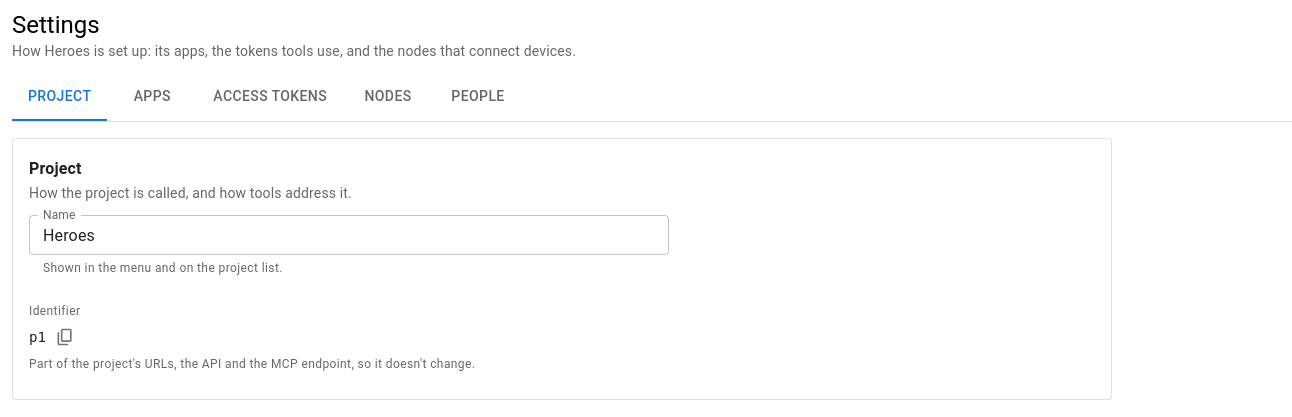
Test: SettingsPage tabs: loads the Nodes tab when it is picked
This screenshot has width=1292, height=417.
Click the tab "Nodes" at (388, 97), box [343,73,433,121]
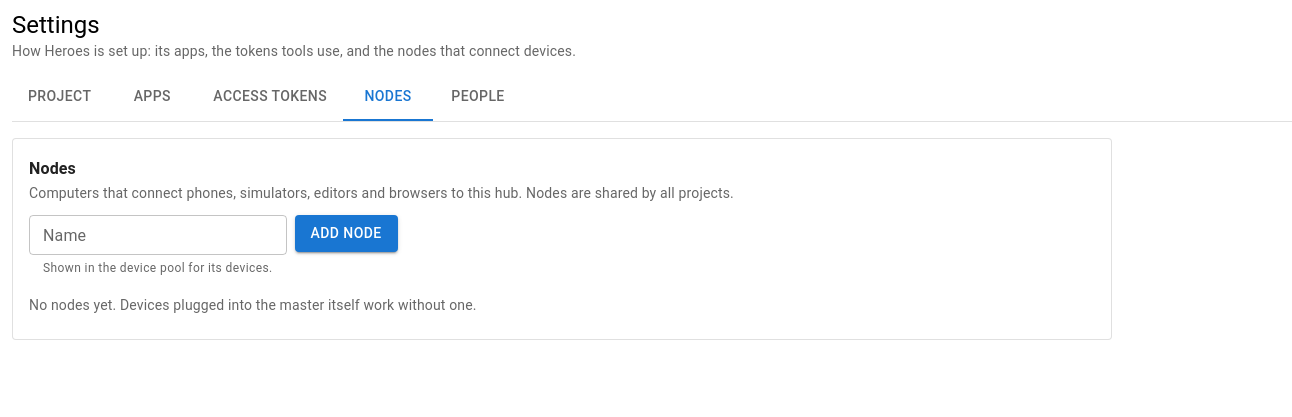
Expected: the text "Computers that connect phones" is shown, [29,185,734,201]
